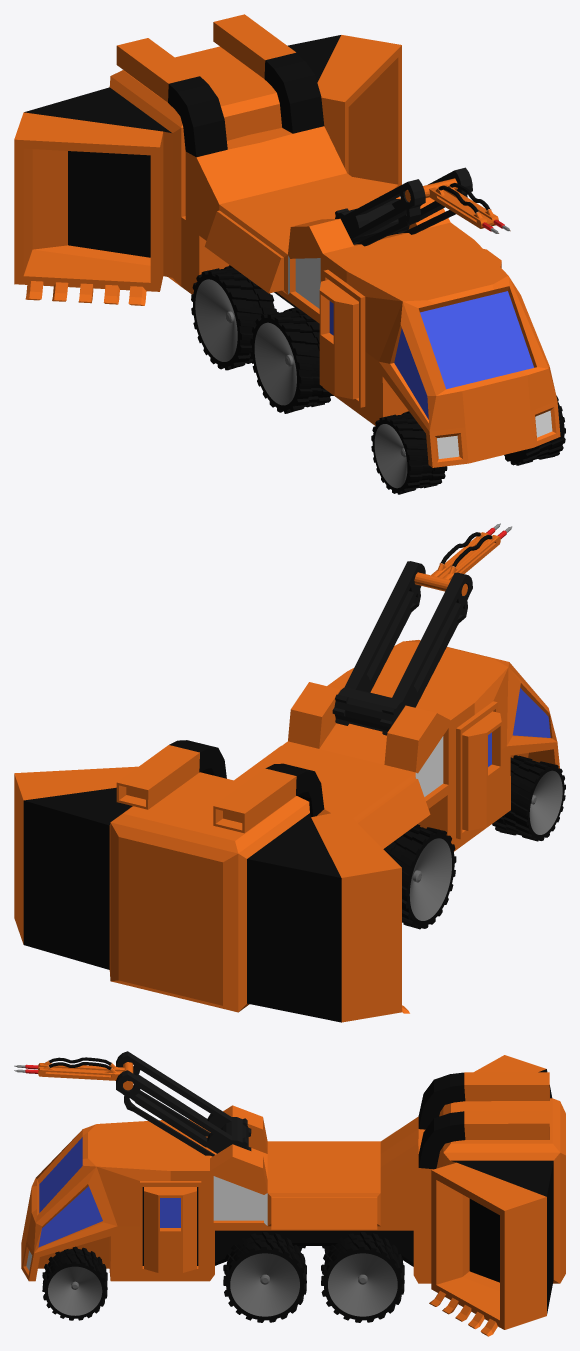
The model's file is Repair Car v.1.0 .fbx.
The picture shows the model from 3 angles, top to bottom: view 1: azimuth 30°, elevation 25°; view 2: azimuth 150°, elevation 25°; view 3: azimuth 270°, elevation 25°; orthographic projection. The views are drawn at different scales.
Parts seen in each view (by area): view 1: welder vehicle.001, Gear.006, Gear.007, Gear.005, welder arm 1.001, Cylinder.002; view 2: welder vehicle.001, welder arm 1.001, Gear.006, Gear.005, Cylinder.002; view 3: welder vehicle.001, Gear.007, Gear.006, welder arm 1.001, Gear.005, Cylinder.002.
Part boxes in pixels (x1=…): welder vehicle.001: x1=14, y1=14, x2=560, y2=467; Gear.006: x1=250, y1=307, x2=333, y2=413; Gear.007: x1=191, y1=265, x2=276, y2=370; Gear.005: x1=371, y1=395, x2=565, y2=494; welder arm 1.001: x1=335, y1=167, x2=472, y2=246; Cylinder.002: x1=405, y1=178, x2=510, y2=233; welder vehicle.001: x1=14, y1=640, x2=559, y2=1022; welder arm 1.001: x1=332, y1=561, x2=472, y2=735; Gear.006: x1=383, y1=824, x2=456, y2=929; Gear.005: x1=492, y1=755, x2=565, y2=841; Cylinder.002: x1=414, y1=523, x2=512, y2=595; welder vehicle.001: x1=21, y1=1055, x2=565, y2=1336; Gear.007: x1=321, y1=1232, x2=404, y2=1322; Gear.006: x1=223, y1=1232, x2=306, y2=1322; welder arm 1.001: x1=116, y1=1051, x2=251, y2=1156; Gear.005: x1=42, y1=1246, x2=107, y2=1320; Cylinder.002: x1=14, y1=1057, x2=133, y2=1090.
Size of the model in its own units: 598 by 413 by 893.
